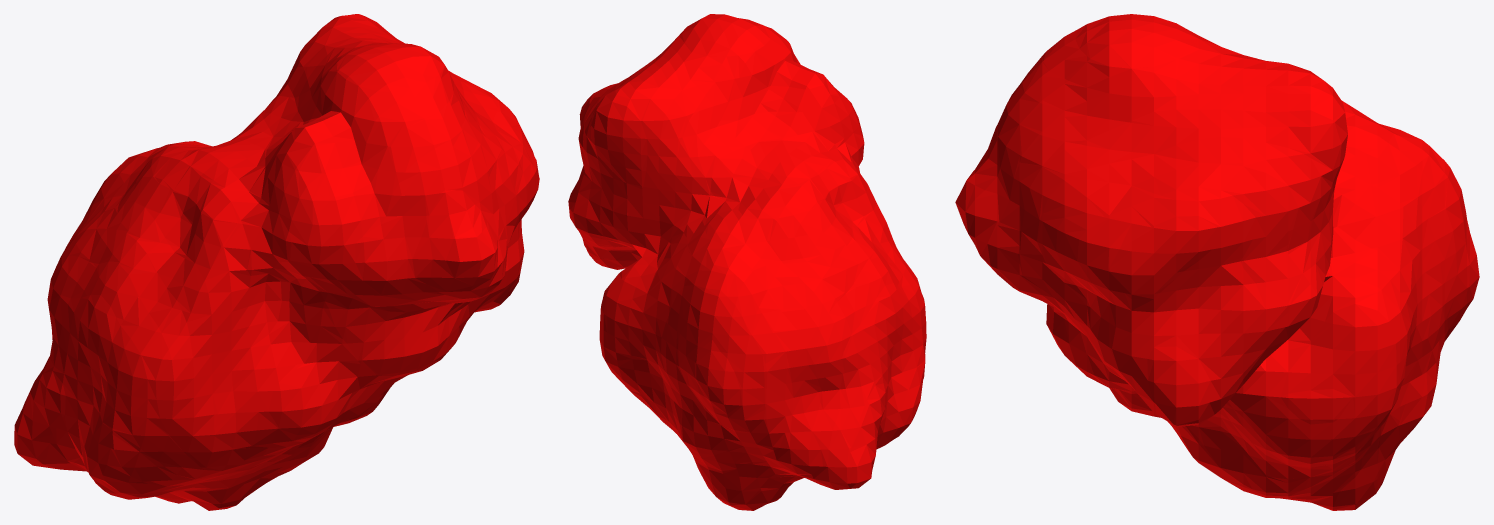
File: cheB_coarse.dae
3 renders of one model, left to right at view 1: azimuth 30°, elevation 25°; view 2: azimuth 150°, elevation 25°; view 3: azimuth 270°, elevation 25°, orthographic. The views are drawn at different scales.
Visible parts, largest first — view 1: cheB; view 2: cheB; view 3: cheB.
Boxes of the visible parts, x1,y1,x2,y2 form: cheB: (14, 14, 539, 510); cheB: (568, 14, 926, 510); cheB: (955, 14, 1479, 510).
Size of the model in its own units: 57.35 by 63.34 by 55.29.
